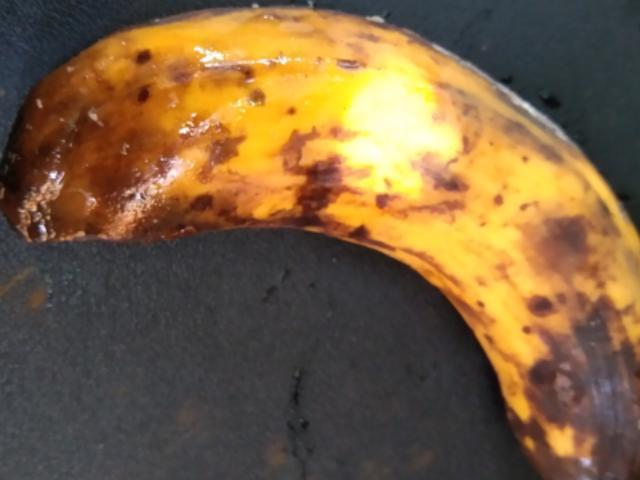rotten: (20, 15, 639, 479)
